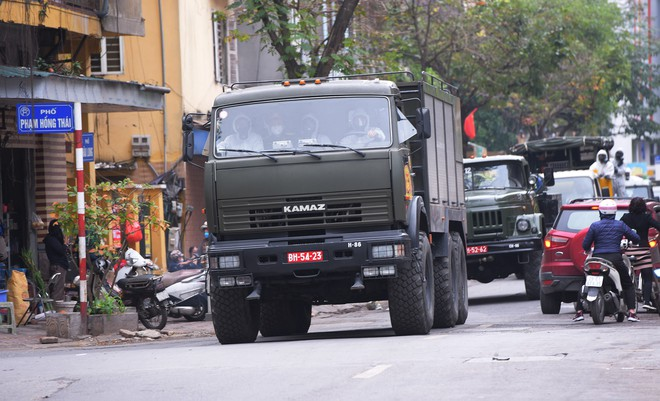plate: (283, 245, 323, 270), (461, 242, 489, 256), (584, 272, 603, 287)
